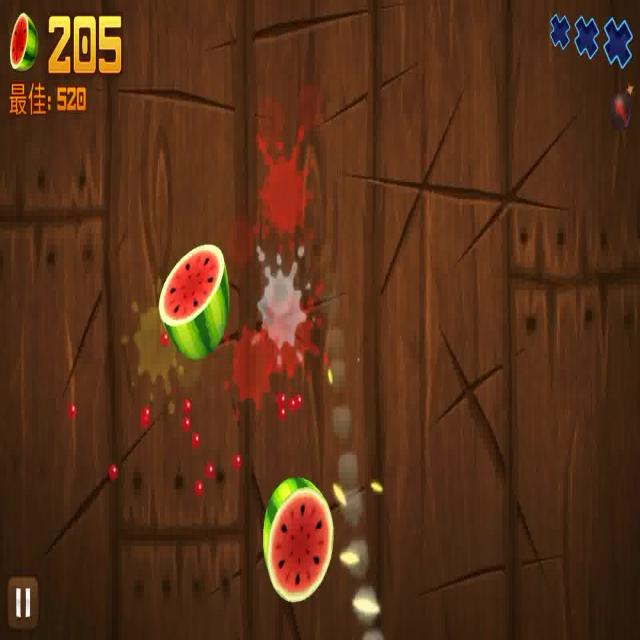fruit: (158, 236, 235, 368), (260, 473, 338, 602)
